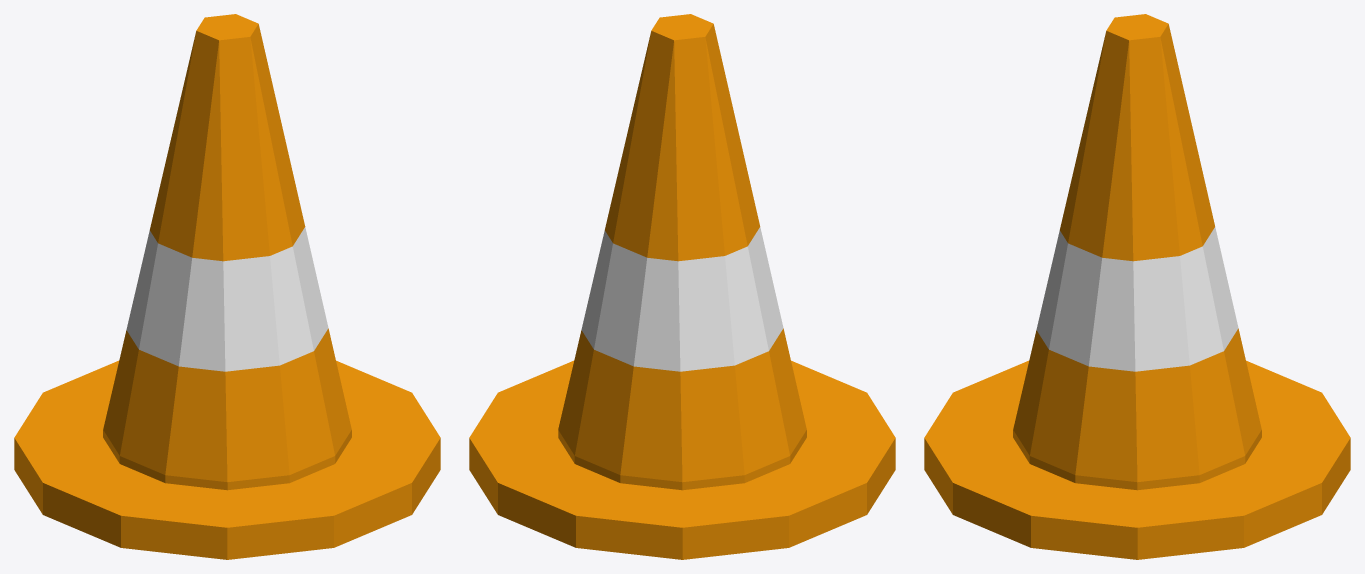
The model's file is Traffic Cone-transformed.glb.
3 views of the same model, side by side, from view 1: azimuth 30°, elevation 25°; view 2: azimuth 150°, elevation 25°; view 3: azimuth 270°, elevation 25° (orthographic).
Parts seen in each view (by area): view 1: Node; view 2: Node; view 3: Node.
Boxes of the visible parts, box(x1,y1,x2,y2) form: Node: box(14, 14, 440, 559); Node: box(469, 14, 895, 559); Node: box(924, 14, 1350, 559).
Size of the model in its own units: 0.24 by 0.275 by 0.24.
